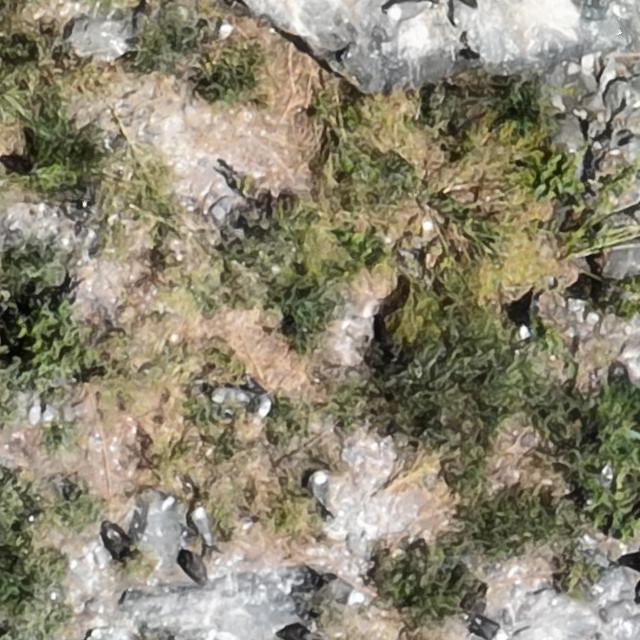umineko: (325, 576, 366, 608), (474, 618, 503, 639), (211, 388, 246, 405), (194, 509, 212, 542), (390, 2, 422, 20), (310, 472, 326, 503), (252, 389, 270, 416), (217, 20, 233, 38)
